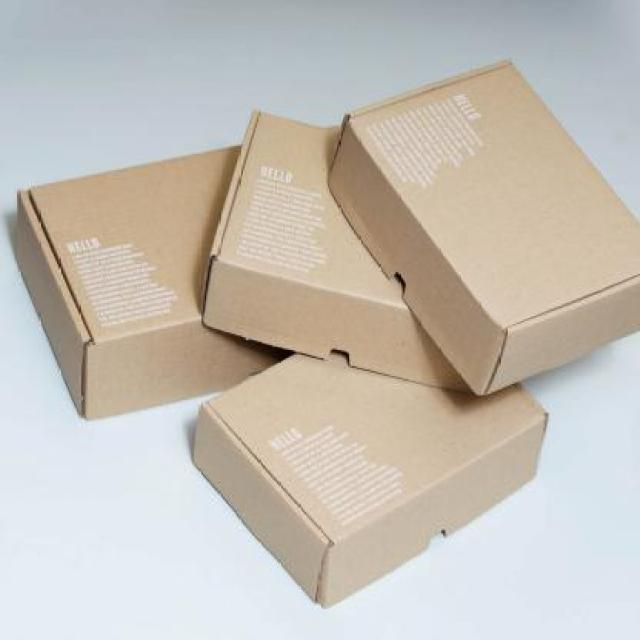box: (326, 48, 637, 411), (165, 344, 558, 616), (185, 89, 466, 402), (10, 113, 265, 434)
